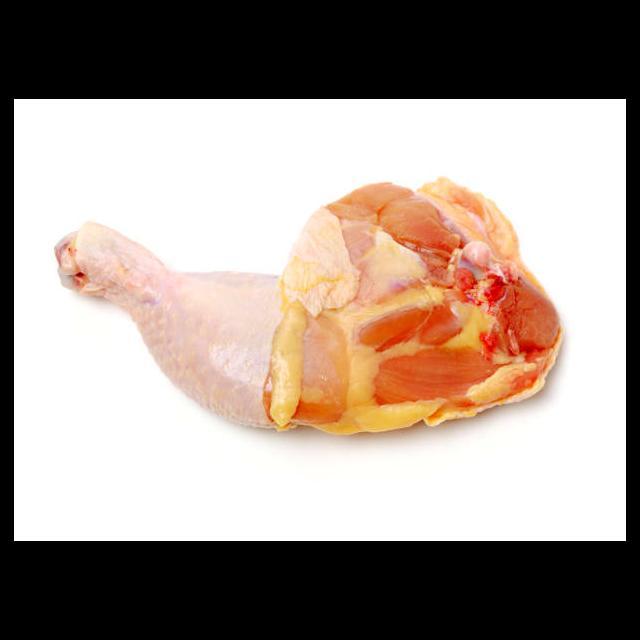chicken: (51, 173, 568, 437)
